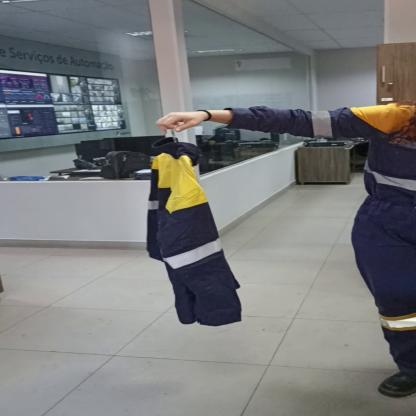C_eletrica: (134, 144, 251, 328)
